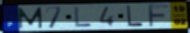4: (99, 6, 117, 28)
7: (45, 6, 63, 29)
F: (147, 4, 171, 28)
L: (73, 6, 93, 28), (126, 5, 144, 28)
M: (17, 7, 44, 30)
